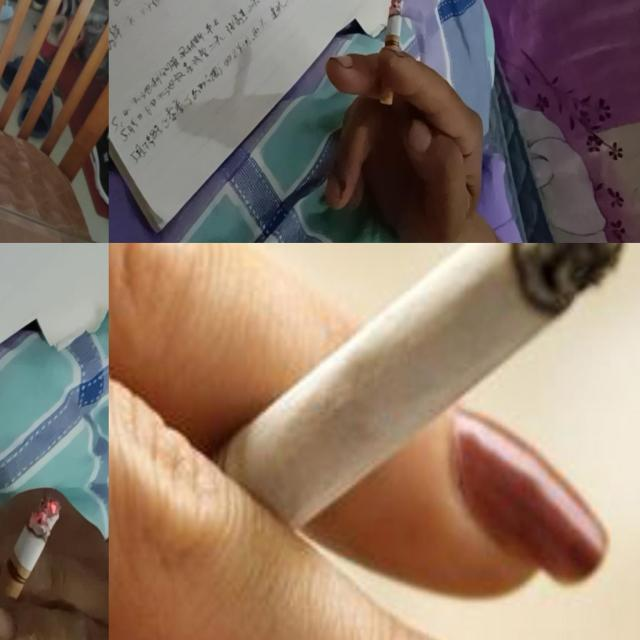smoking: (197, 242, 640, 518), (0, 495, 60, 639), (378, 0, 405, 106)
